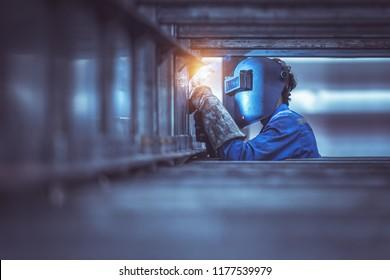gloves: (189, 80, 248, 143)
